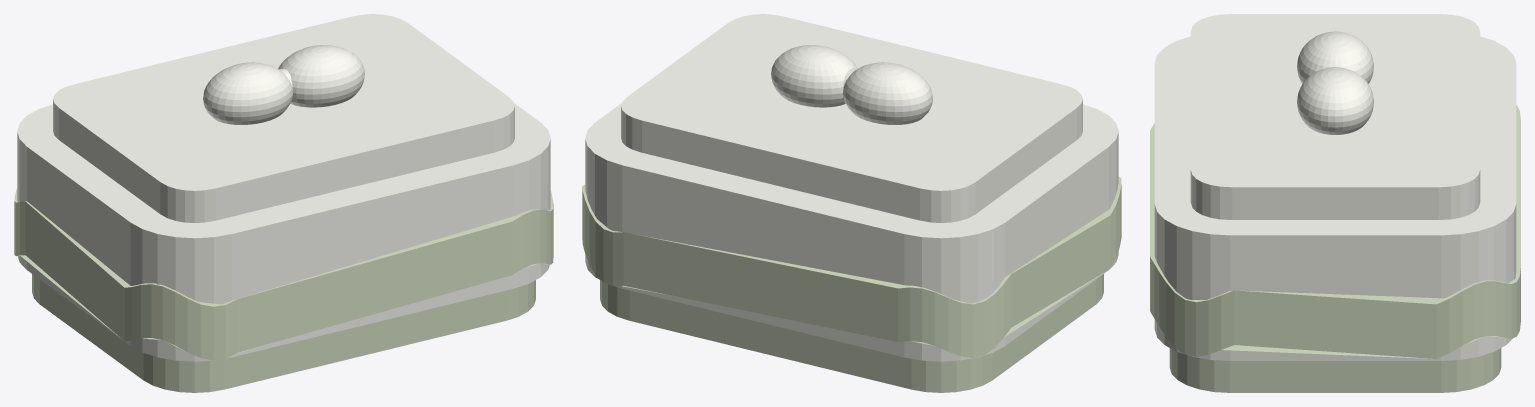
The model's file is soap-stand-cat-procedural.glb.
The picture shows the model from 3 angles, left to right: view 1: azimuth 30°, elevation 25°; view 2: azimuth 150°, elevation 25°; view 3: azimuth 270°, elevation 25°; orthographic projection.
Parts seen in each view (by area): view 1: Lid, Decorative_Strip, Base_Container; view 2: Lid, Decorative_Strip, Base_Container; view 3: Lid, Decorative_Strip, Base_Container.
Boxes of the visible parts, box(x1,y1,x2,y2) form: Lid: box(17, 14, 550, 361); Decorative_Strip: box(14, 187, 553, 360); Base_Container: box(32, 274, 535, 392); Lid: box(585, 14, 1118, 361); Decorative_Strip: box(582, 176, 1121, 357); Base_Container: box(600, 274, 1103, 392); Lid: box(1154, 14, 1516, 360); Decorative_Strip: box(1150, 105, 1520, 358); Base_Container: box(1169, 348, 1501, 392).
Size of the model in its own units: 0.163 by 0.0884 by 0.123.
